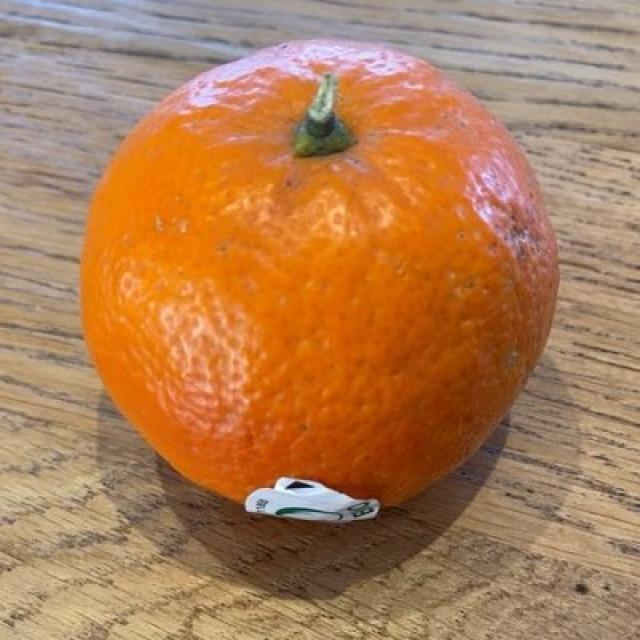mandarine: (87, 49, 556, 503)
